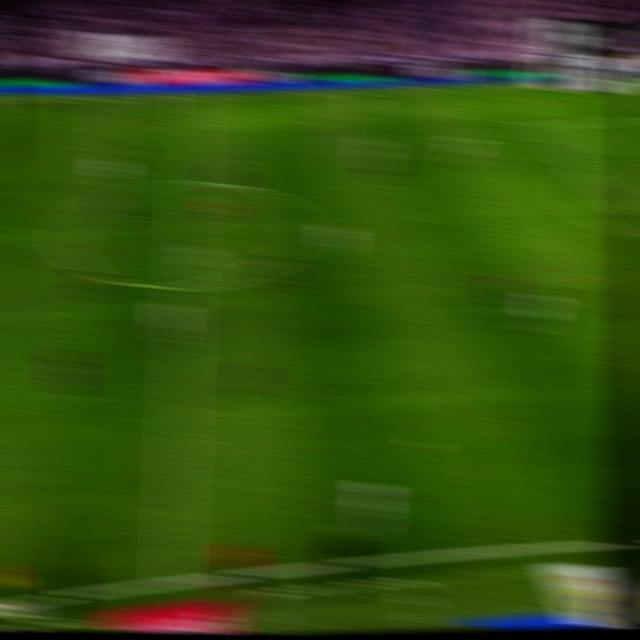bigarea_top_inner: (523, 117, 548, 133)
corner: (614, 73, 640, 84)
halfcircle_bottom: (169, 273, 199, 297)
halfcircle_top: (173, 169, 203, 194)
midline_bottom_intersection: (154, 562, 190, 594)
midline_top_intersection: (179, 90, 205, 104)
top_arc_area_intersection: (571, 162, 598, 178)
